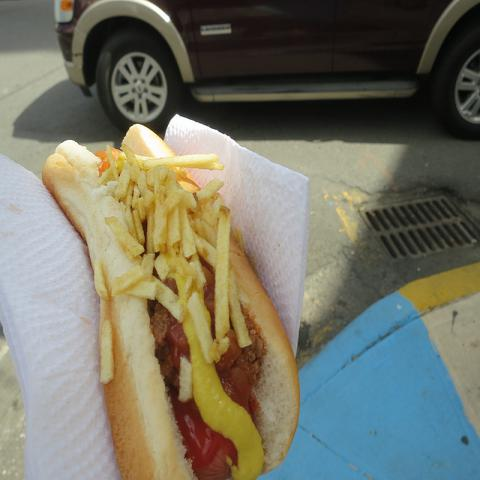car: (53, 0, 479, 143)
